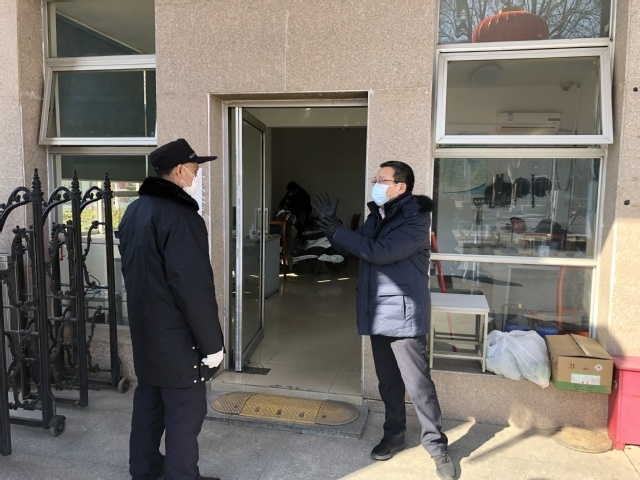correctlyWear: (369, 169, 406, 206), (174, 159, 205, 192)
